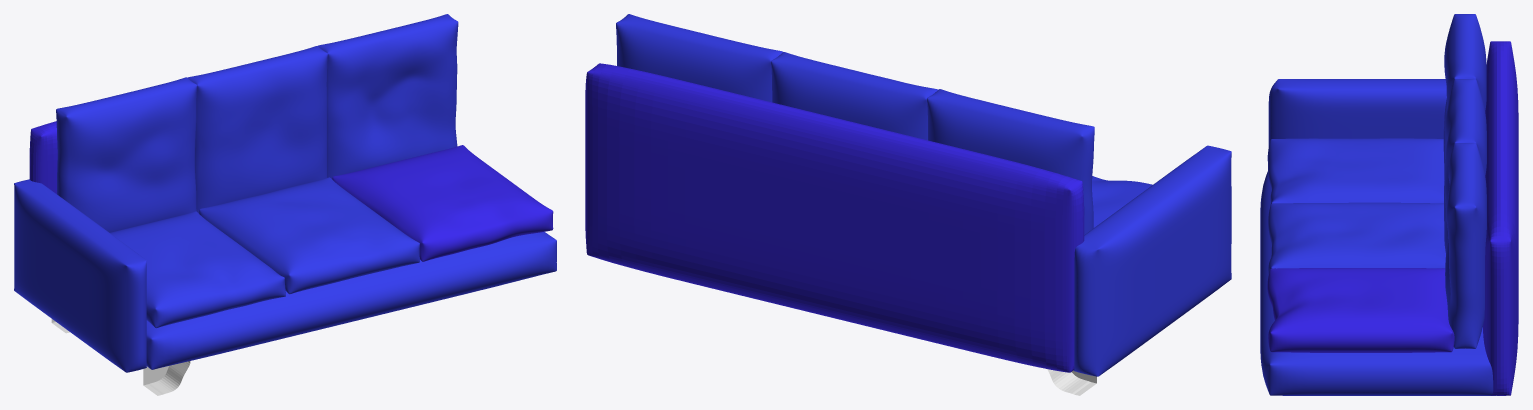
File: SOFA_BLUE.glb
3 renders of one model, left to right at view 1: azimuth 30°, elevation 25°; view 2: azimuth 150°, elevation 25°; view 3: azimuth 270°, elevation 25°, orthographic. The views are drawn at different scales.
Visible parts, largest first — view 1: Cube, Cube.005, Cube.007, Cube.008, Cube.003, Cube.006, Cube.004, Cube.002, Cube.001, Cube.009; view 2: Cube.001, Cube.003, Cube.007, Cube.008, Cube.005, Cube.002, Cube.010; view 3: Cube.004, Cube, Cube.006, Cube.002, Cube.001, Cube.003, Cube.008, Cube.005, Cube.007.
Boxes of the visible parts, bbox=[...] form: Cube: bbox=[146, 232, 556, 369]; Cube.005: bbox=[187, 46, 327, 213]; Cube.007: bbox=[56, 77, 197, 232]; Cube.008: bbox=[318, 14, 458, 179]; Cube.003: bbox=[14, 179, 146, 372]; Cube.006: bbox=[199, 177, 419, 294]; Cube.004: bbox=[332, 145, 553, 261]; Cube.002: bbox=[110, 211, 285, 328]; Cube.001: bbox=[29, 121, 57, 193]; Cube.009: bbox=[143, 361, 190, 395]; Cube.001: bbox=[585, 63, 1084, 372]; Cube.003: bbox=[1073, 145, 1231, 376]; Cube.007: bbox=[927, 89, 1094, 234]; Cube.008: bbox=[616, 14, 782, 102]; Cube.005: bbox=[771, 52, 937, 140]; Cube.002: bbox=[1092, 176, 1152, 227]; Cube.010: bbox=[1047, 369, 1096, 395]; Cube.004: bbox=[1267, 268, 1454, 352]; Cube: bbox=[1260, 171, 1499, 395]; Cube.006: bbox=[1268, 202, 1445, 274]; Cube.002: bbox=[1267, 138, 1444, 205]; Cube.001: bbox=[1483, 41, 1518, 395]; Cube.003: bbox=[1268, 79, 1446, 146]; Cube.008: bbox=[1445, 143, 1486, 348]; Cube.005: bbox=[1444, 79, 1486, 253]; Cube.007: bbox=[1443, 14, 1486, 179].
Bounding box in the file's own units: 6.41 × 3.04 × 3.24.
